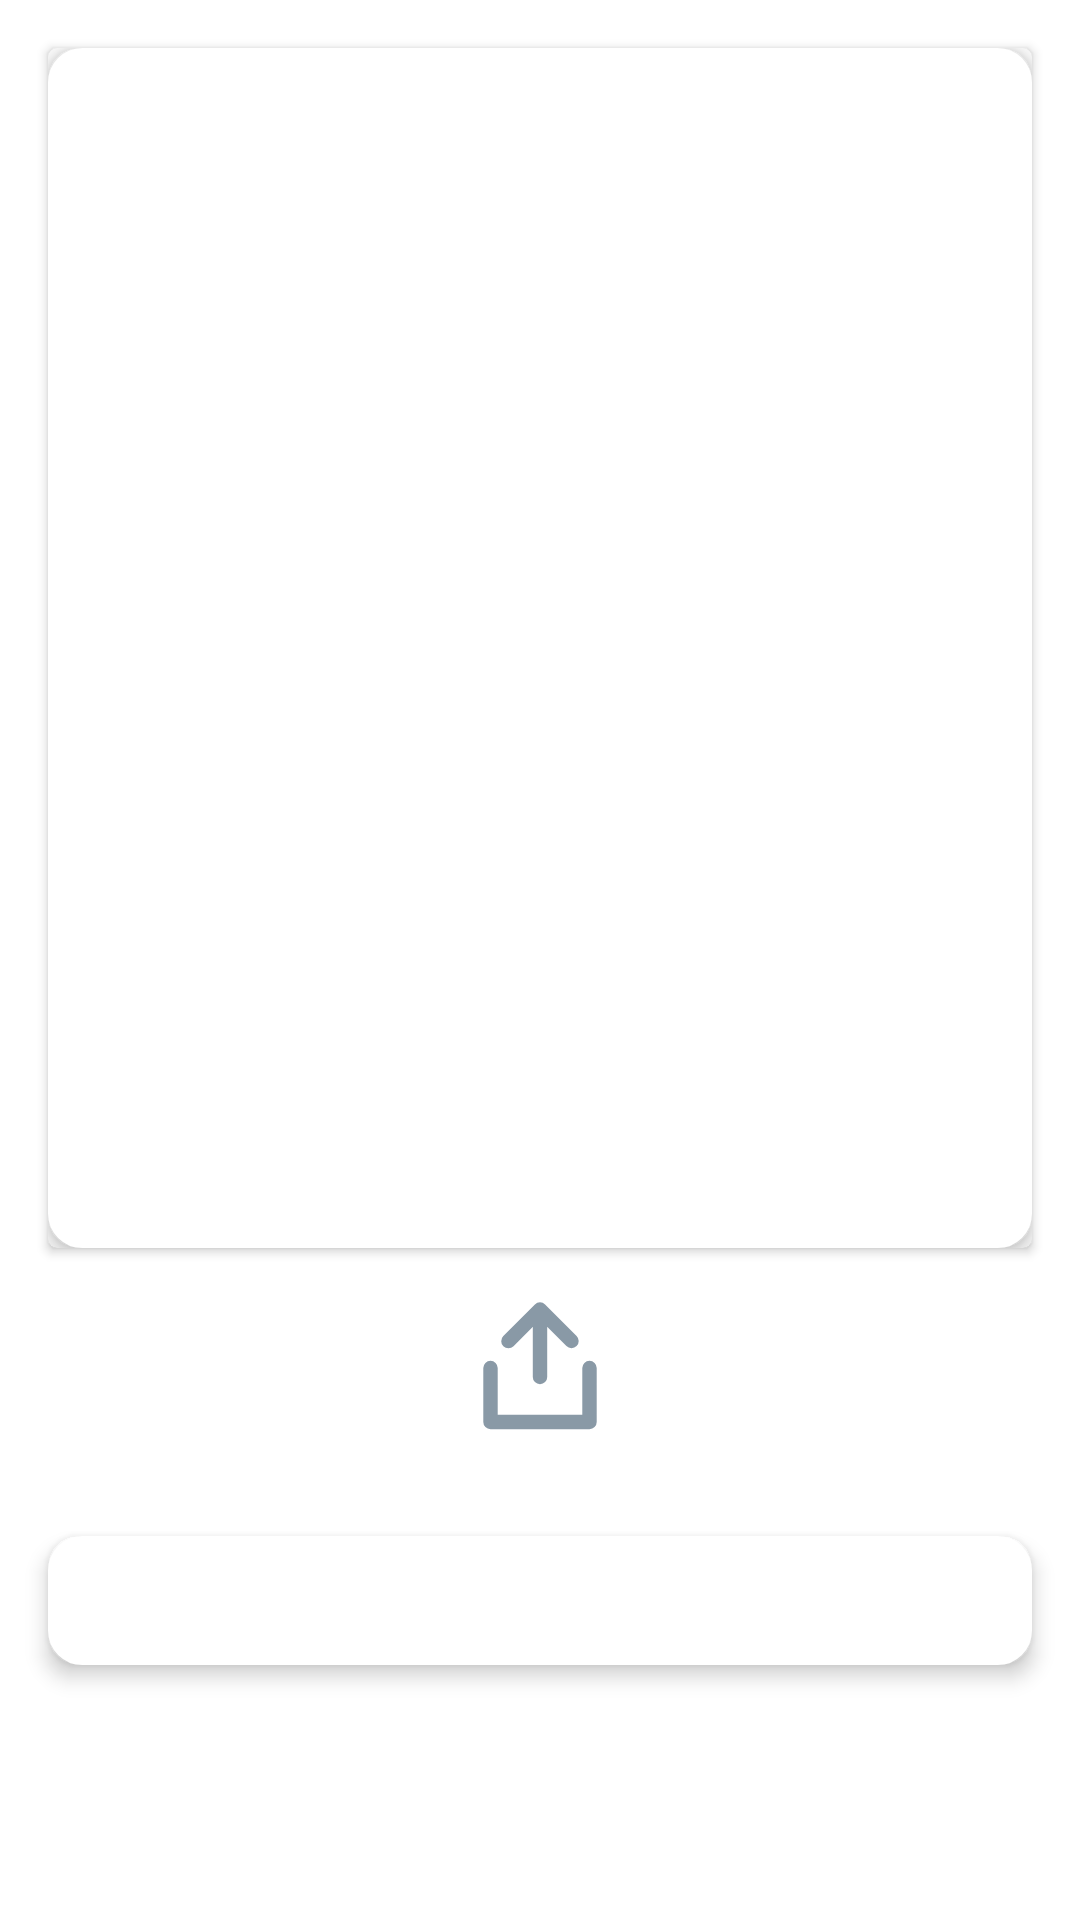

Named icons in this screenshot (1080×1920) and their bounding boxes, bbox(x1, y1, x2, y2):
share: bbox(483, 1302, 597, 1430)
